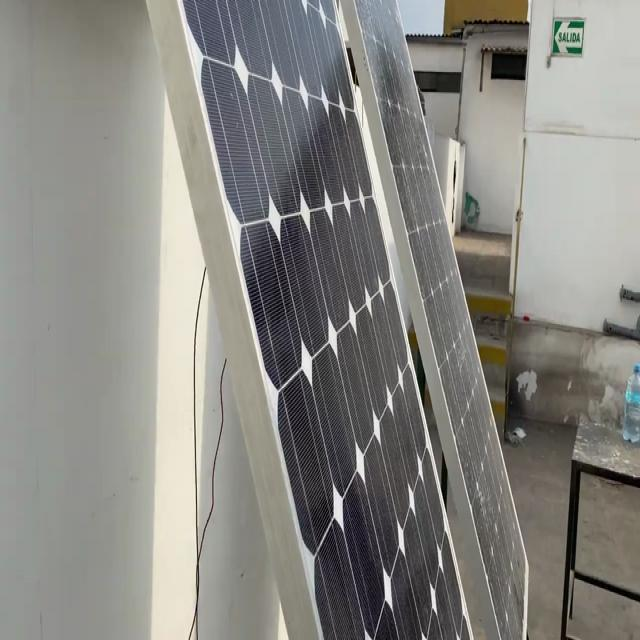Normal Solar Panel: (181, 2, 470, 640)
